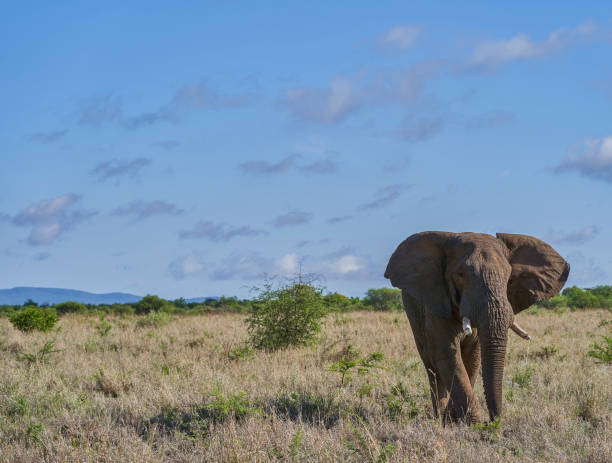africanelephant: (431, 223, 539, 362)
